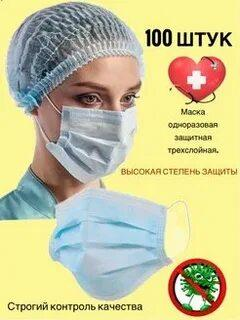hairnet: (12, 3, 149, 113)
mask: (50, 188, 180, 281), (56, 93, 139, 182)
